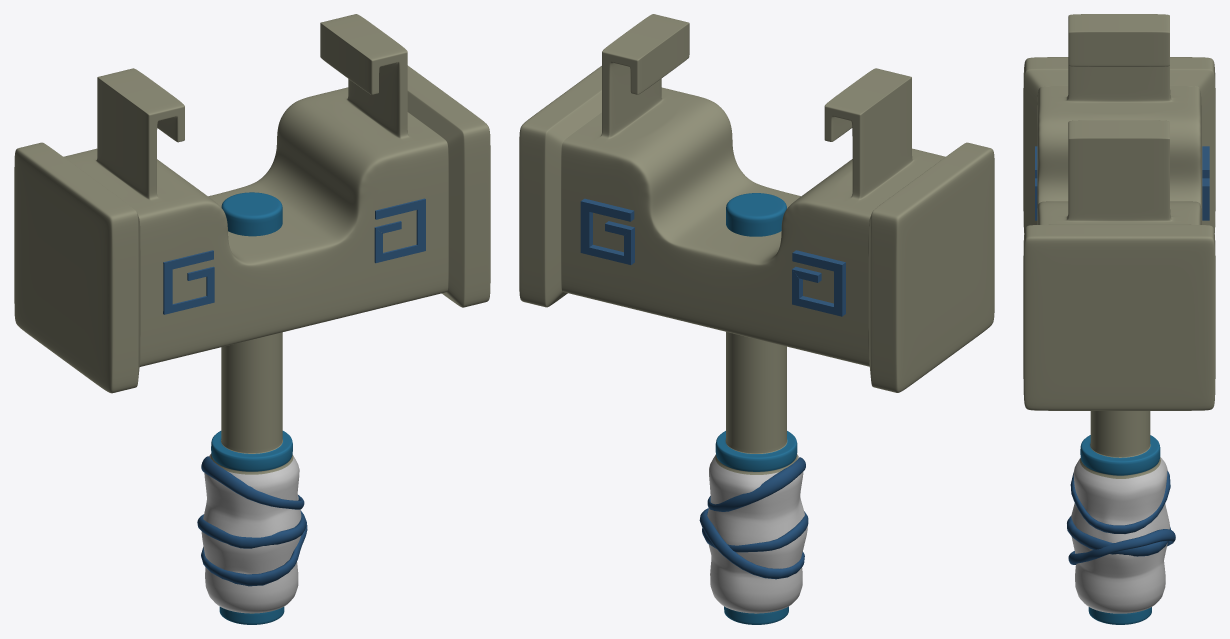
The model's file is Marteau Bouftou.fbx.
3 views of the same model, side by side, from view 1: azimuth 30°, elevation 25°; view 2: azimuth 150°, elevation 25°; view 3: azimuth 270°, elevation 25° (orthographic). The views are drawn at different scales.
Parts seen in each view (by area): view 1: Marteau up, Manche, lacet3, Symbole; view 2: Marteau up, Manche, Symbole, lacet3; view 3: Marteau up, Manche, lacet3, Symbole.
Boxes of the visible parts, x1=… form: Marteau up: x1=14, y1=14, x2=490, y2=393; Manche: x1=201, y1=192, x2=301, y2=624; lacet3: x1=197, y1=456, x2=307, y2=586; Symbole: x1=163, y1=198, x2=425, y2=314; Marteau up: x1=519, y1=14, x2=994, y2=392; Manche: x1=707, y1=193, x2=807, y2=624; Symbole: x1=580, y1=198, x2=845, y2=316; lacet3: x1=699, y1=457, x2=808, y2=579; Marteau up: x1=1023, y1=14, x2=1215, y2=410; Manche: x1=1071, y1=411, x2=1169, y2=624; lacet3: x1=1067, y1=471, x2=1175, y2=564; Symbole: x1=1035, y1=146, x2=1209, y2=220.
Bounding box in the file's own units: 239 × 328 × 107.
